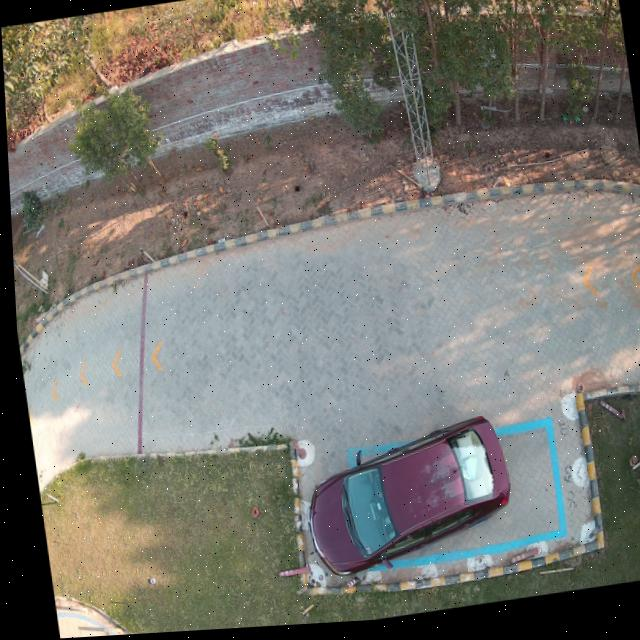car: (303, 422, 504, 579)
